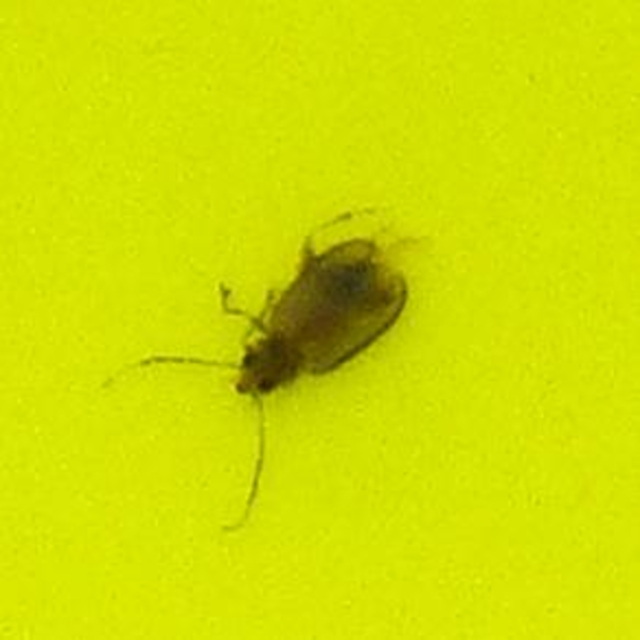Coleoptera: (219, 227, 421, 413)
